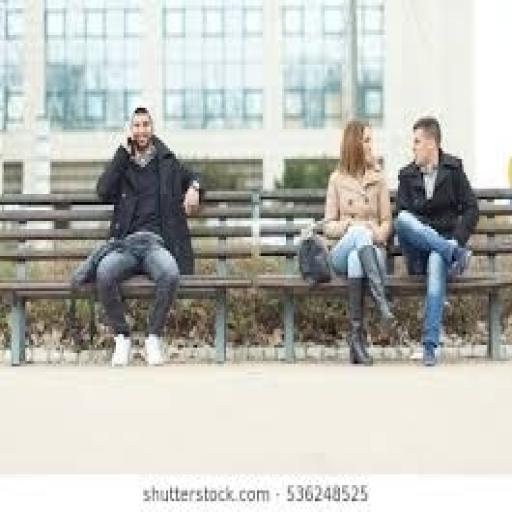sitting: (79, 102, 203, 366), (392, 113, 479, 367), (319, 113, 400, 367)
